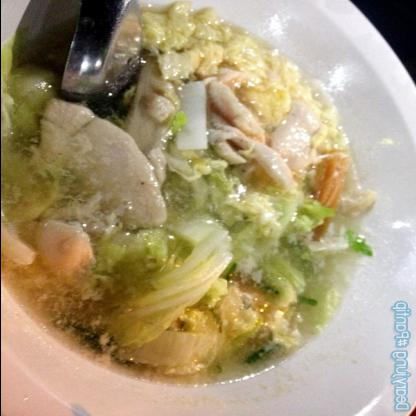Suki: (13, 7, 367, 367)
